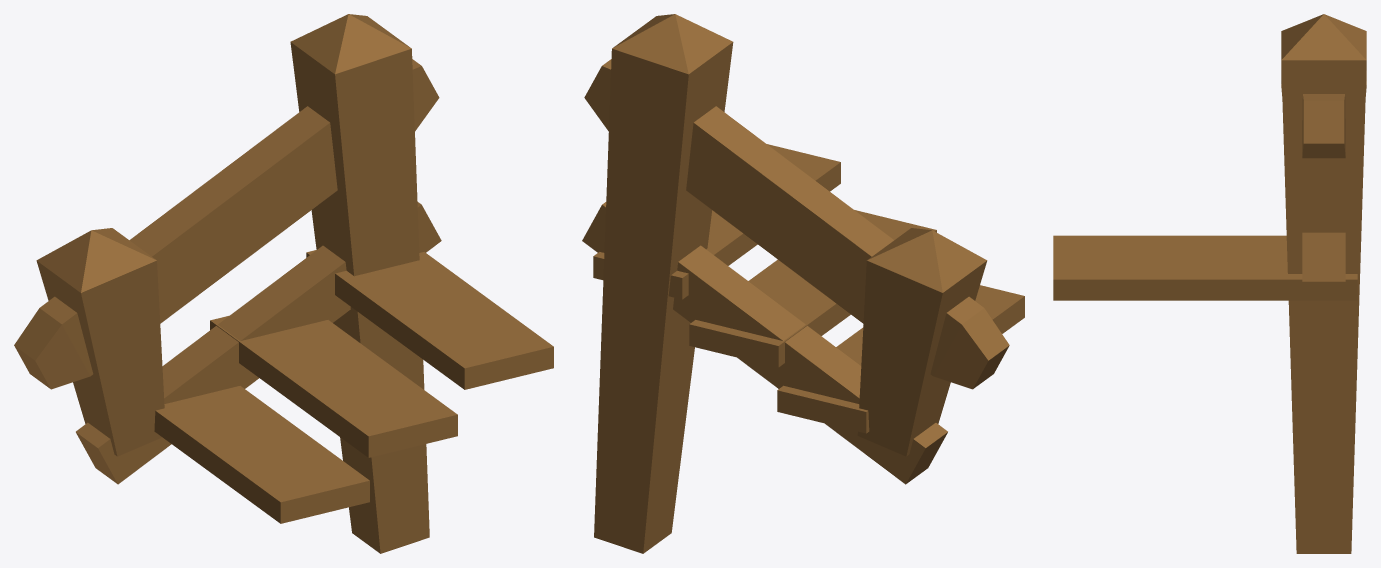
File: wood_deck_01_edge_ramp_L.glb
The picture shows the model from 3 angles, left to right: view 1: azimuth 30°, elevation 25°; view 2: azimuth 150°, elevation 25°; view 3: azimuth 270°, elevation 25°; orthographic projection. The views are drawn at different scales.
Visible parts, largest first — view 1: rural_fence_01_plank.003; view 2: rural_fence_01_plank.003; view 3: rural_fence_01_plank.003.
Boxes of the visible parts, <box> form: rural_fence_01_plank.003: <box>14,14,553,553</box>; rural_fence_01_plank.003: <box>582,14,1024,553</box>; rural_fence_01_plank.003: <box>1053,14,1366,553</box>.
Bounding box in the file's own units: 2.96 × 3.72 × 2.06.
